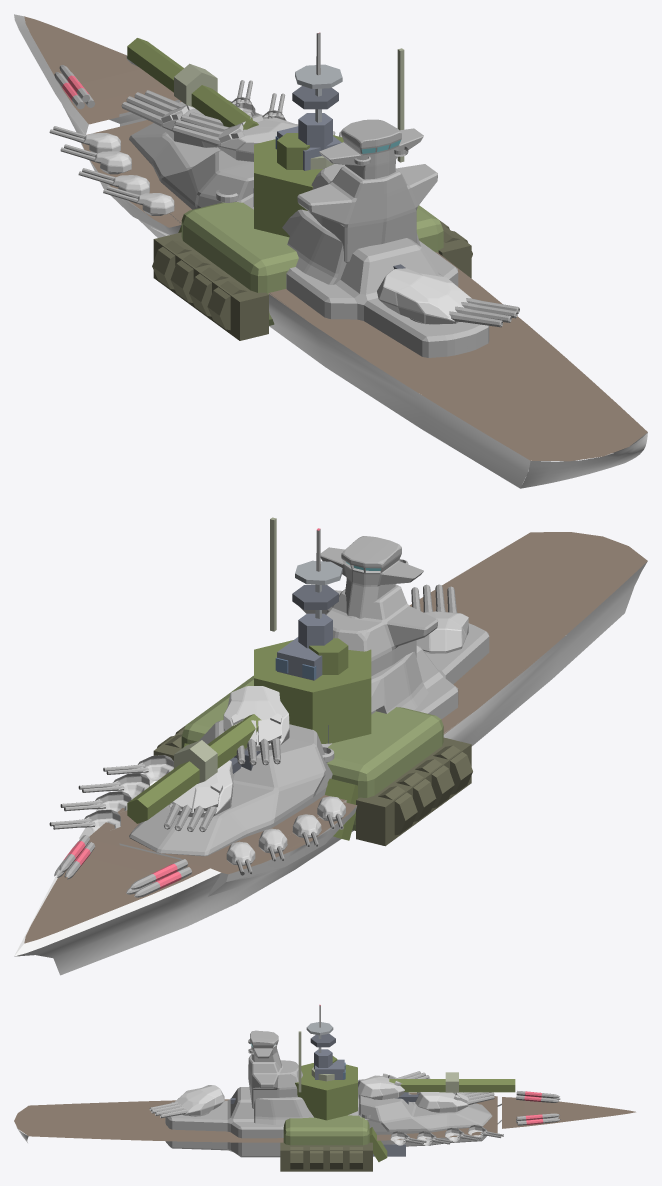
File: unit_warship.glb
The picture shows the model from 3 angles, top to bottom: view 1: azimuth 30°, elevation 25°; view 2: azimuth 150°, elevation 25°; view 3: azimuth 270°, elevation 25°; orthographic projection. The views are drawn at different scales.
Visible parts, largest first — view 1: unit_tank, nurbsToPoly24, pCube9, nurbsToPoly1, polySurface148, pCube8, nurbsToPoly3, nurbsToPoly13, pCube10, polySurface153, unit_warship, nurbsToPoly25 (+5 smaller); view 2: unit_tank, nurbsToPoly24, nurbsToPoly1, polySurface148, nurbsToPoly3, nurbsToPoly13, pCube8, unit_warship, pCube10, pCube9, polySurface123, nurbsToPoly4 (+4 smaller); view 3: unit_tank, nurbsToPoly24, polySurface148, pCube9, nurbsToPoly3, pCube8, unit_warship, nurbsToPoly13, polySurface153, polySurface118, polySurface123, pCube10.
Boxes of the visible parts, box(x1,y1,x2,y2) form: unit_tank: box(127, 38, 472, 340); nurbsToPoly24: box(370, 324, 647, 461); pCube9: box(286, 238, 489, 357); nurbsToPoly1: box(62, 104, 530, 488); polySurface148: box(129, 32, 420, 284); pCube8: box(297, 164, 437, 262); nurbsToPoly3: box(24, 16, 181, 124); nurbsToPoly13: box(87, 120, 526, 362); pCube10: box(319, 119, 423, 179); polySurface153: box(377, 268, 471, 324); unit_warship: box(253, 64, 405, 269); nurbsToPoly25: box(520, 432, 647, 488); unit_tank: box(127, 517, 472, 846); nurbsToPoly24: box(409, 532, 647, 668); nurbsToPoly1: box(14, 561, 647, 975); polySurface148: box(129, 528, 428, 856); nurbsToPoly3: box(24, 839, 209, 943); nurbsToPoly13: box(89, 658, 526, 872); pCube8: box(299, 584, 437, 676); unit_warship: box(230, 560, 342, 773); pCube10: box(320, 536, 423, 618); pCube9: box(414, 623, 489, 719); polySurface123: box(223, 686, 289, 750); nurbsToPoly4: box(14, 868, 220, 956); unit_tank: box(280, 1031, 515, 1171); nurbsToPoly24: box(14, 1100, 180, 1141); polySurface148: box(254, 1004, 492, 1146); pCube9: box(165, 1087, 283, 1157); nurbsToPoly3: box(502, 1097, 635, 1128); pCube8: box(248, 1054, 302, 1108); unit_warship: box(230, 1022, 418, 1156); nurbsToPoly13: box(180, 1098, 497, 1142); polySurface153: box(174, 1085, 224, 1115); polySurface118: box(415, 1092, 468, 1112); polySurface123: box(358, 1073, 405, 1099); pCube10: box(250, 1030, 281, 1067).
Size of the model in its own units: 0.476 by 0.4638 by 1.92.
